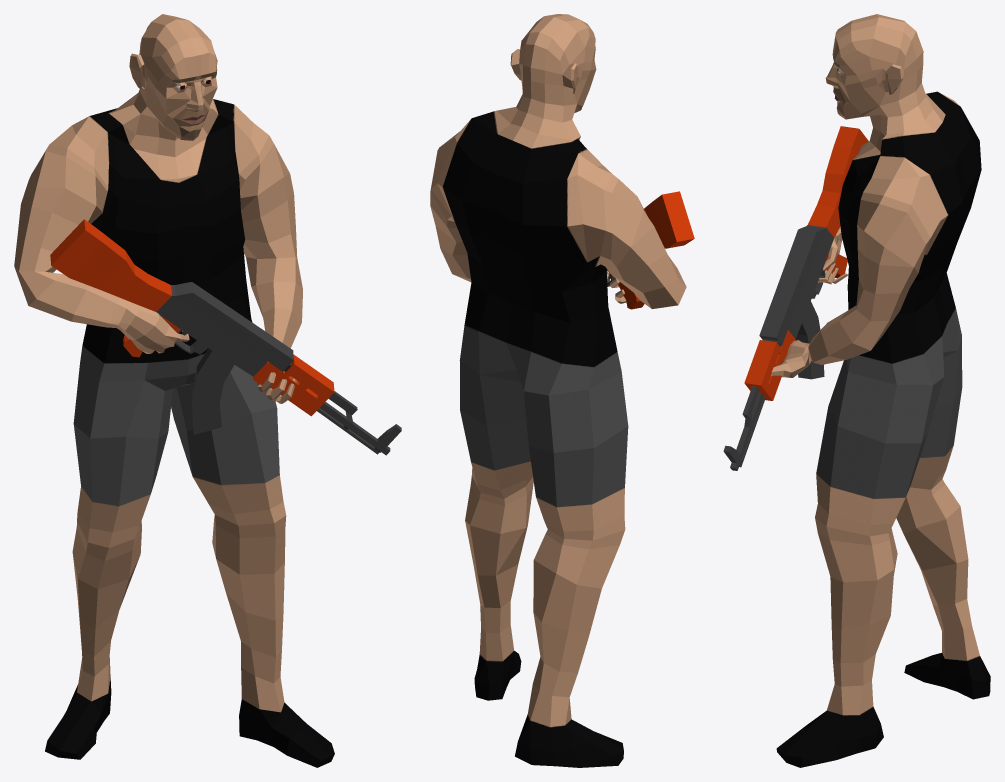
The model's file is PlayerIdle(27).obj.
3 views of the same model, side by side, from view 1: azimuth 30°, elevation 25°; view 2: azimuth 150°, elevation 25°; view 3: azimuth 270°, elevation 25° (orthographic). The views are drawn at different scales.
Parts seen in each view (by area): view 1: Plane002, Object001; view 2: Plane002, Object001; view 3: Plane002, Object001.
Boxes of the visible parts, x1,y1,x2,y2 form: Plane002: [14, 14, 334, 767]; Object001: [50, 219, 401, 455]; Plane002: [430, 14, 686, 767]; Object001: [606, 191, 694, 309]; Plane002: [771, 14, 990, 767]; Object001: [723, 126, 868, 470].
Size of the model in its own units: 749 by 1809 by 629.
